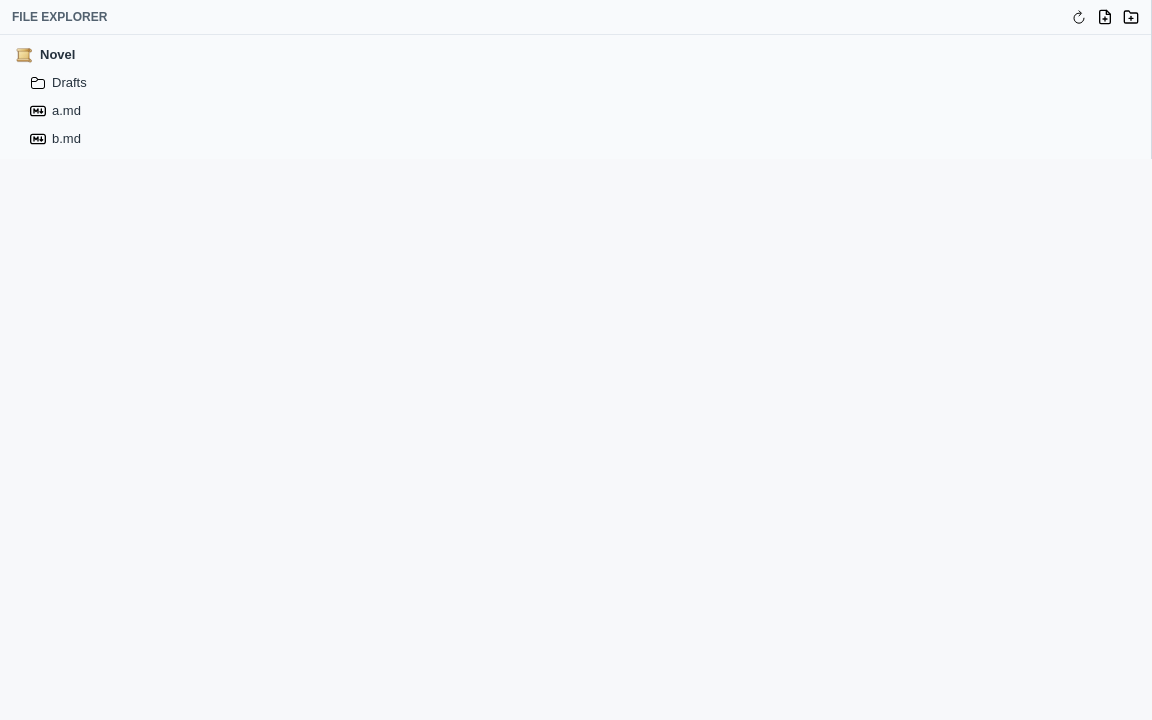
Test case: FileExplorer delete wiring (#351) › context-menu Delete runs collect and opens the confirmation table
Right-click the list item "a.md" at (38, 111), box 6,97 -> 1145,125
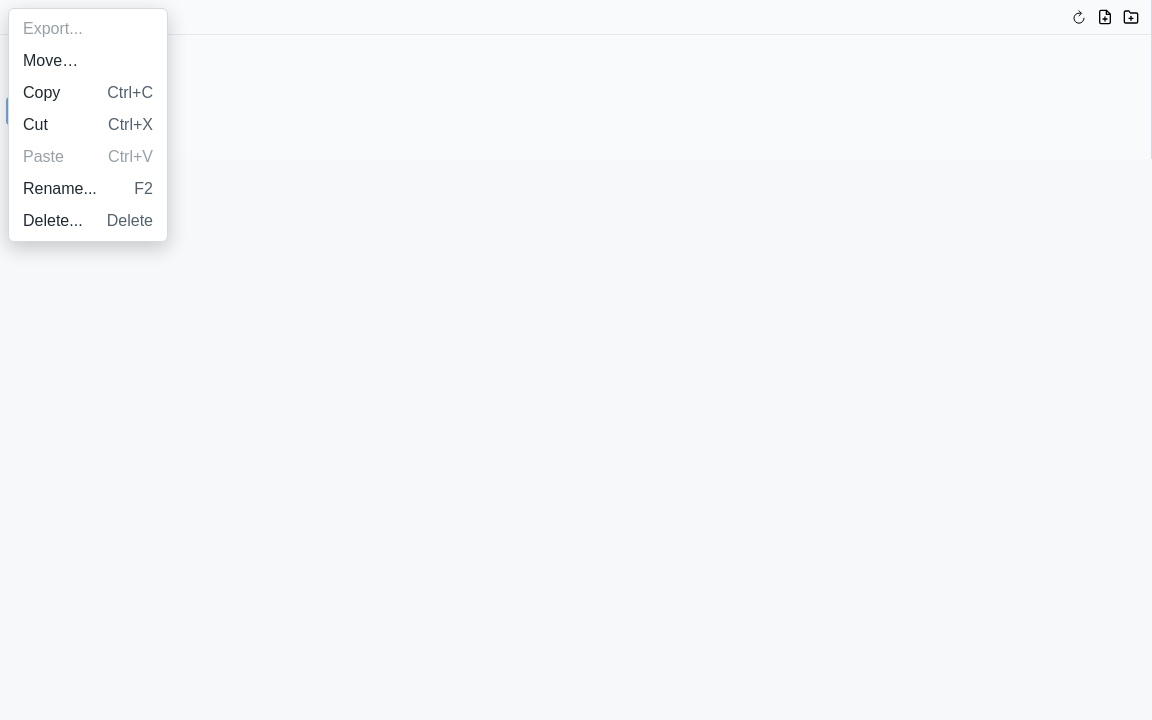
Click the menu item "Delete... Delete" at (88, 221), box 13,205 -> 163,237
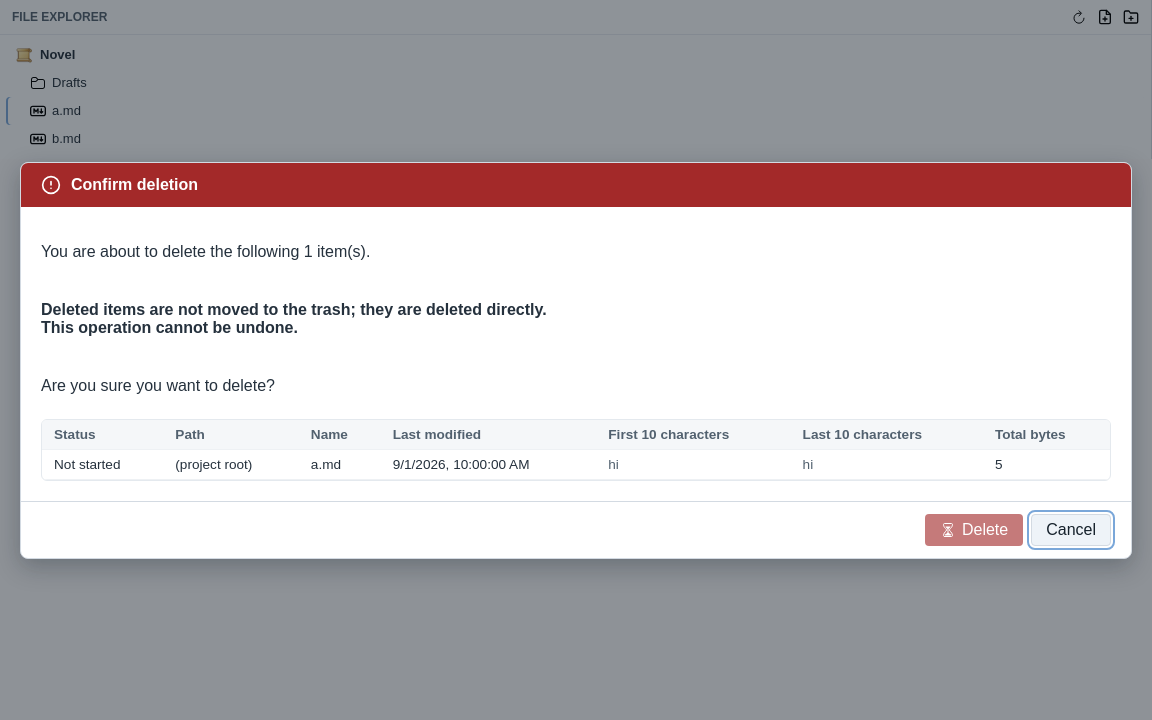
Expected: the table with class "fileExplorerDeleteDialogTable" is shown, 42,420 -> 1110,480
